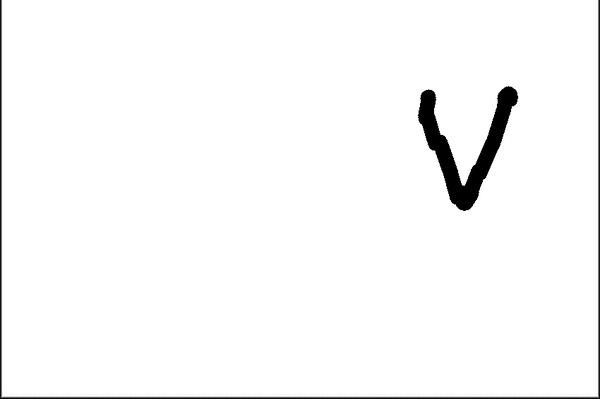V: (398, 77, 538, 218)
